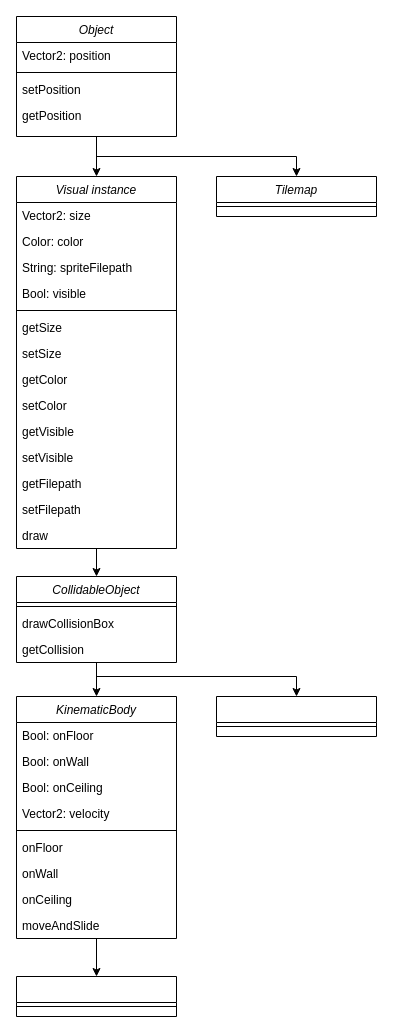
The diagram is 393 pixels wide and 1033 high, and some of its shapes have lost their labels. The shapes that lost their labels are listed below. From the top down, each one's centre as x and y in pixels, then its label:
At (296,716): "Tile".
At (96,996): "Player".
